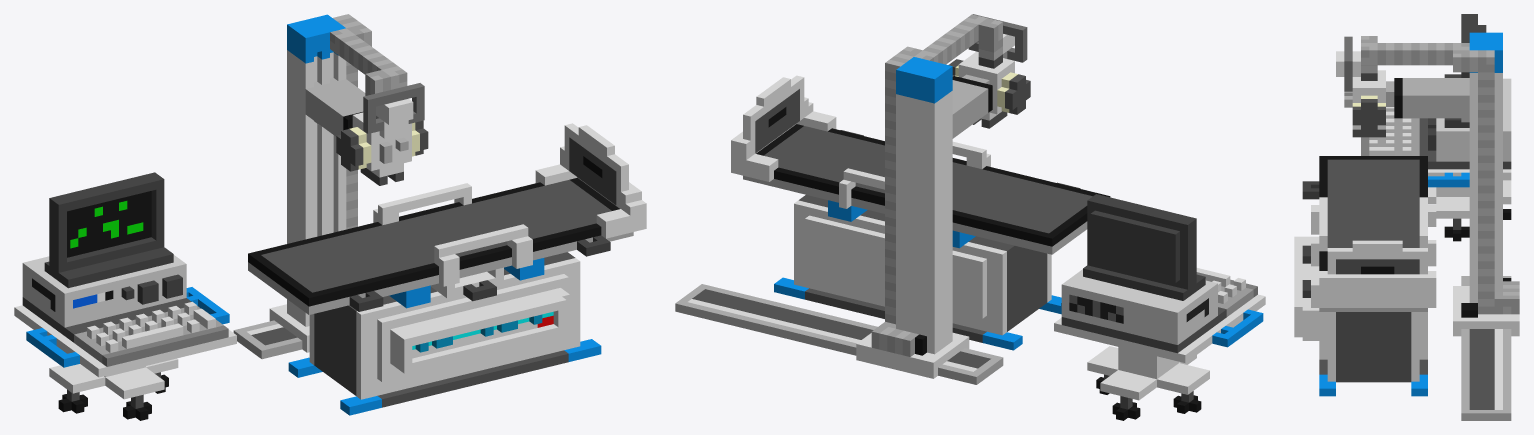
The model's file is xray.glb.
The picture shows the model from 3 angles, left to right: view 1: azimuth 30°, elevation 25°; view 2: azimuth 150°, elevation 25°; view 3: azimuth 270°, elevation 25°; orthographic projection. The views are drawn at different scales.
Parts seen in each view (by area): view 1: Object_2; view 2: Object_2; view 3: Object_2.
Boxes of the visible parts, x1,y1,x2,y2 form: Object_2: (14, 14, 646, 420); Object_2: (675, 14, 1265, 420); Object_2: (1294, 14, 1519, 420).
Bounding box in the file's own units: 4.9 × 2.59 × 1.94.
1 material, 1 textured.
